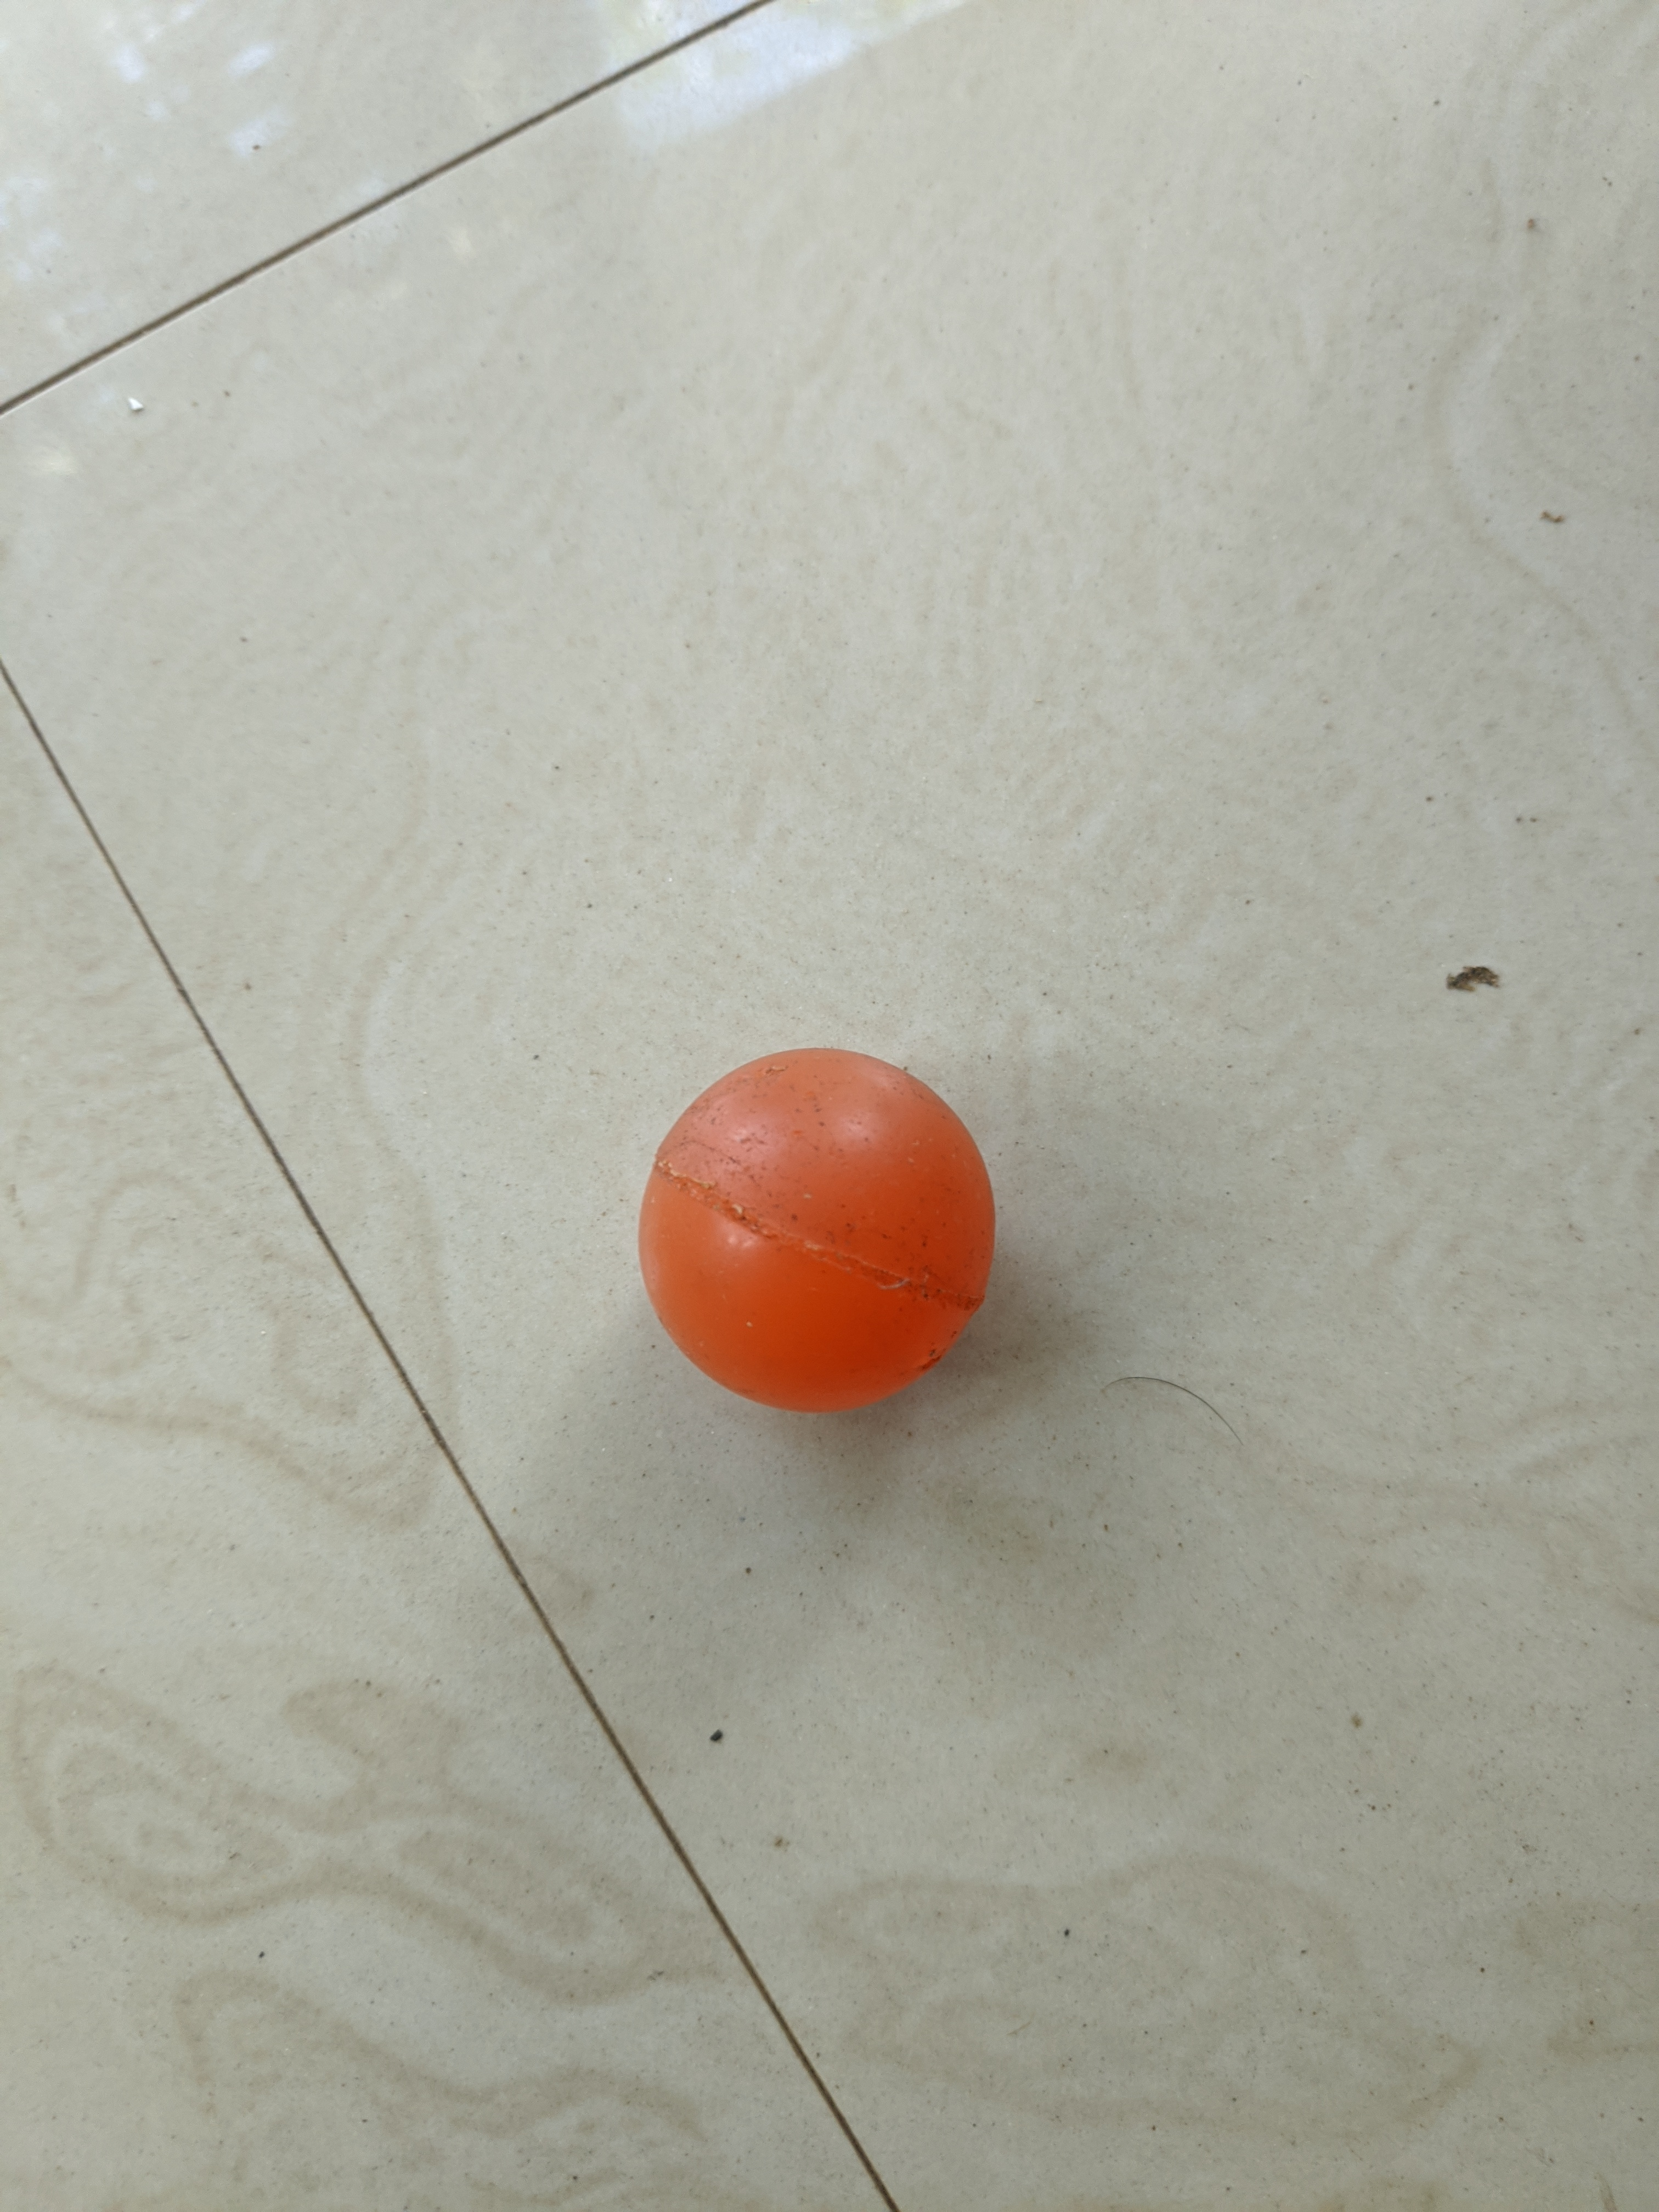red_ball: (610, 1033, 995, 1413)
